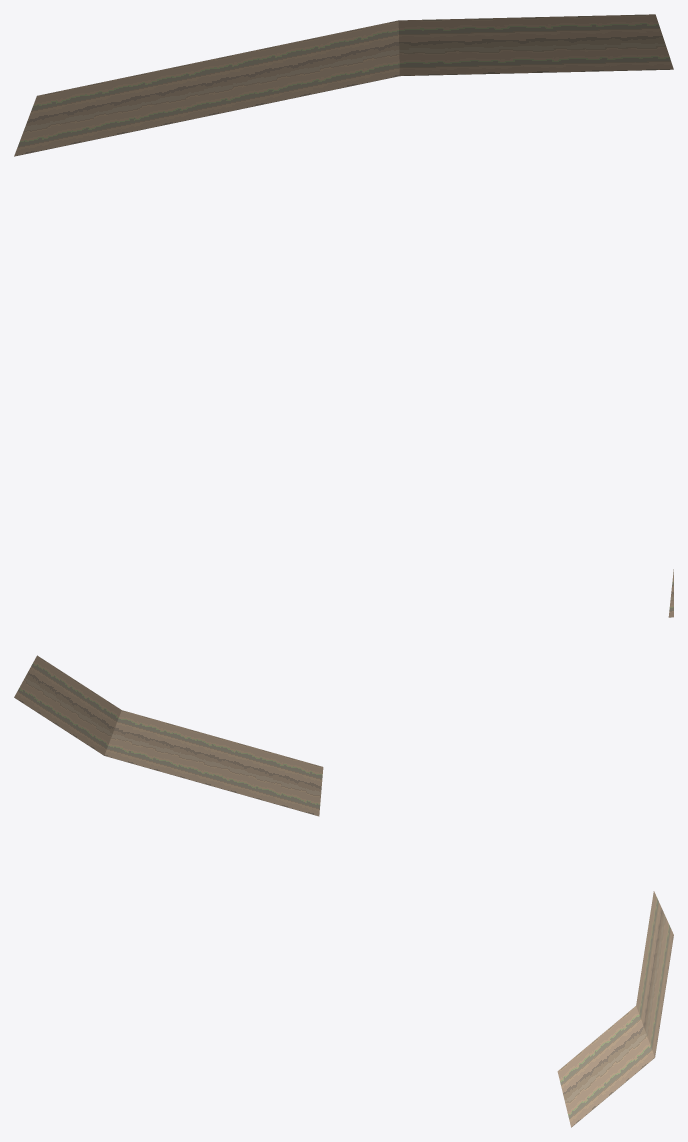
The model's file is kd_stage_135ebf_2_56.glb.
3 views of the same model, one above another, from view 1: azimuth 30°, elevation 25°; view 2: azimuth 150°, elevation 25°; view 3: azimuth 270°, elevation 25° (orthographic). The views are drawn at different scales.
Visible parts, largest first — view 1: kd_stage_135ebf_2_56; view 2: kd_stage_135ebf_2_56; view 3: kd_stage_135ebf_2_56.
Boxes of the visible parts, x1,y1,x2,y2 form: kd_stage_135ebf_2_56: [14, 14, 673, 156]; kd_stage_135ebf_2_56: [14, 569, 673, 816]; kd_stage_135ebf_2_56: [557, 891, 673, 1127].
Size of the model in its own units: 16.49 by 1.9 by 20.28.
Materials: 1 (1 with a texture image).
